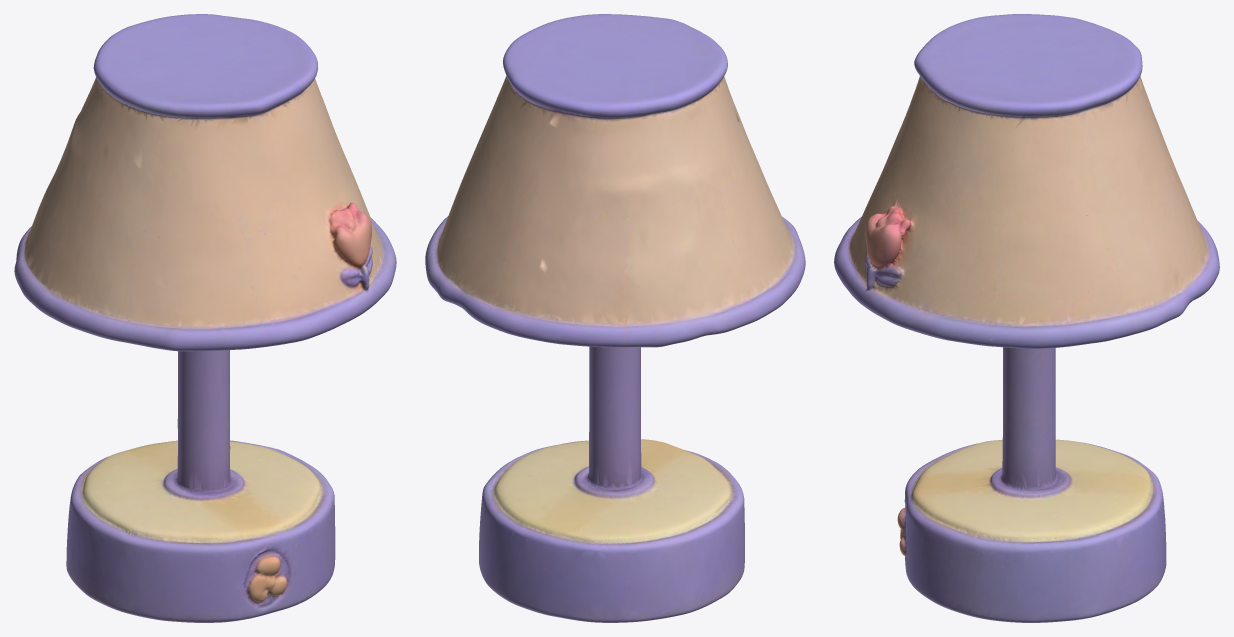
Rendered from tea-table-lamp.glb.
3 renders of one model, left to right at view 1: azimuth 30°, elevation 25°; view 2: azimuth 150°, elevation 25°; view 3: azimuth 270°, elevation 25°, orthographic.
Size of the model in its own units: 1.36 by 2 by 1.37.
1 material, 1 textured.
